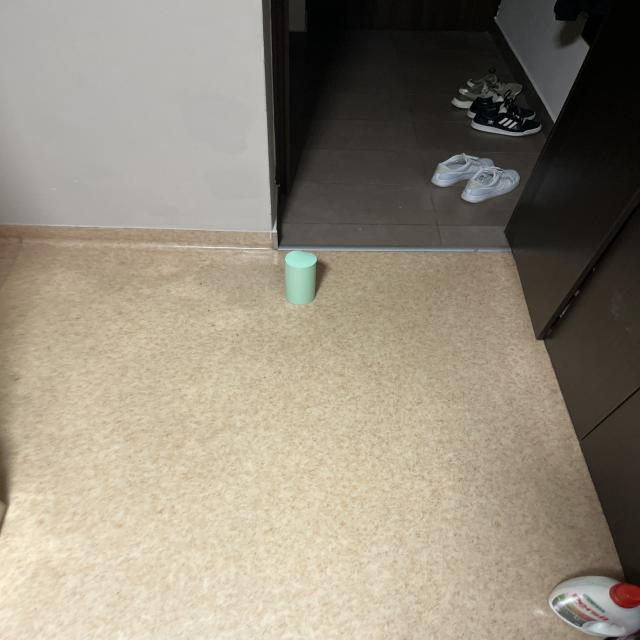meta: (285, 250, 317, 305)
